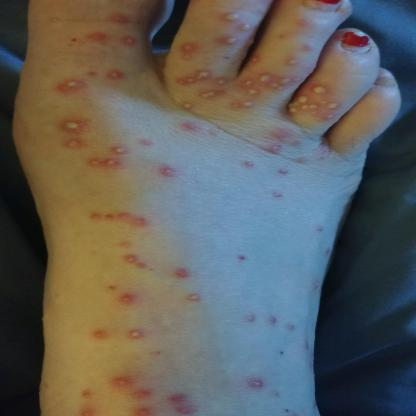Fire ant: (171, 13, 340, 118), (57, 116, 154, 179), (70, 374, 200, 416), (236, 130, 316, 176), (240, 310, 312, 352), (80, 10, 139, 48), (50, 68, 125, 91), (82, 210, 152, 230), (112, 239, 152, 273), (247, 375, 288, 402), (85, 326, 149, 342), (178, 119, 216, 137), (105, 284, 137, 304), (315, 223, 330, 257), (168, 265, 195, 282), (234, 250, 254, 266), (158, 164, 184, 176), (185, 291, 206, 303), (308, 277, 321, 294), (269, 188, 286, 200)
